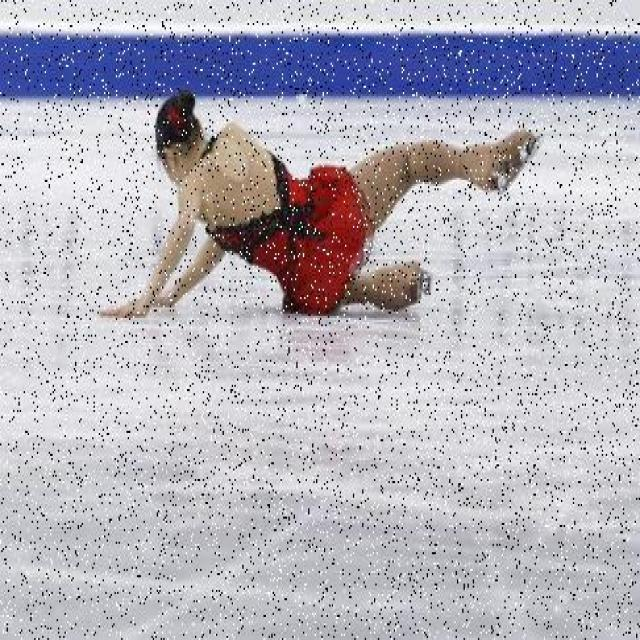fall: (132, 98, 496, 306)
